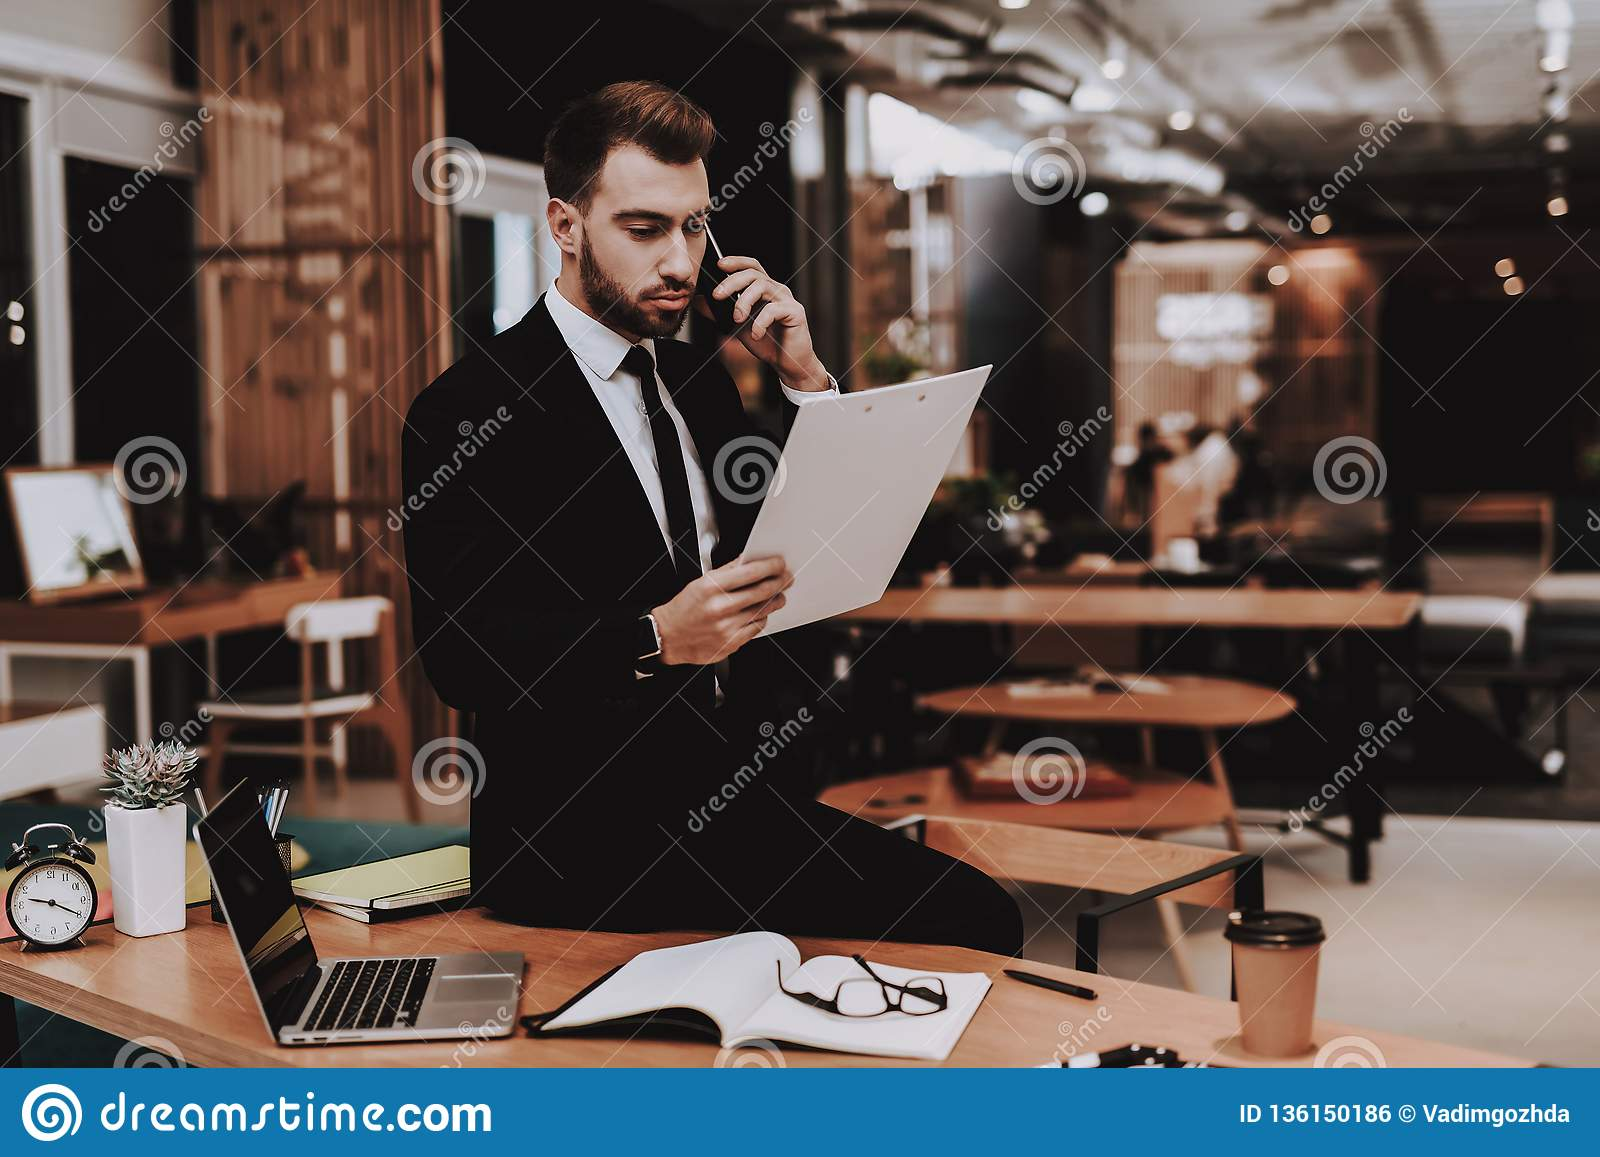phone: (693, 215, 750, 333)
talk: (605, 191, 812, 380)
